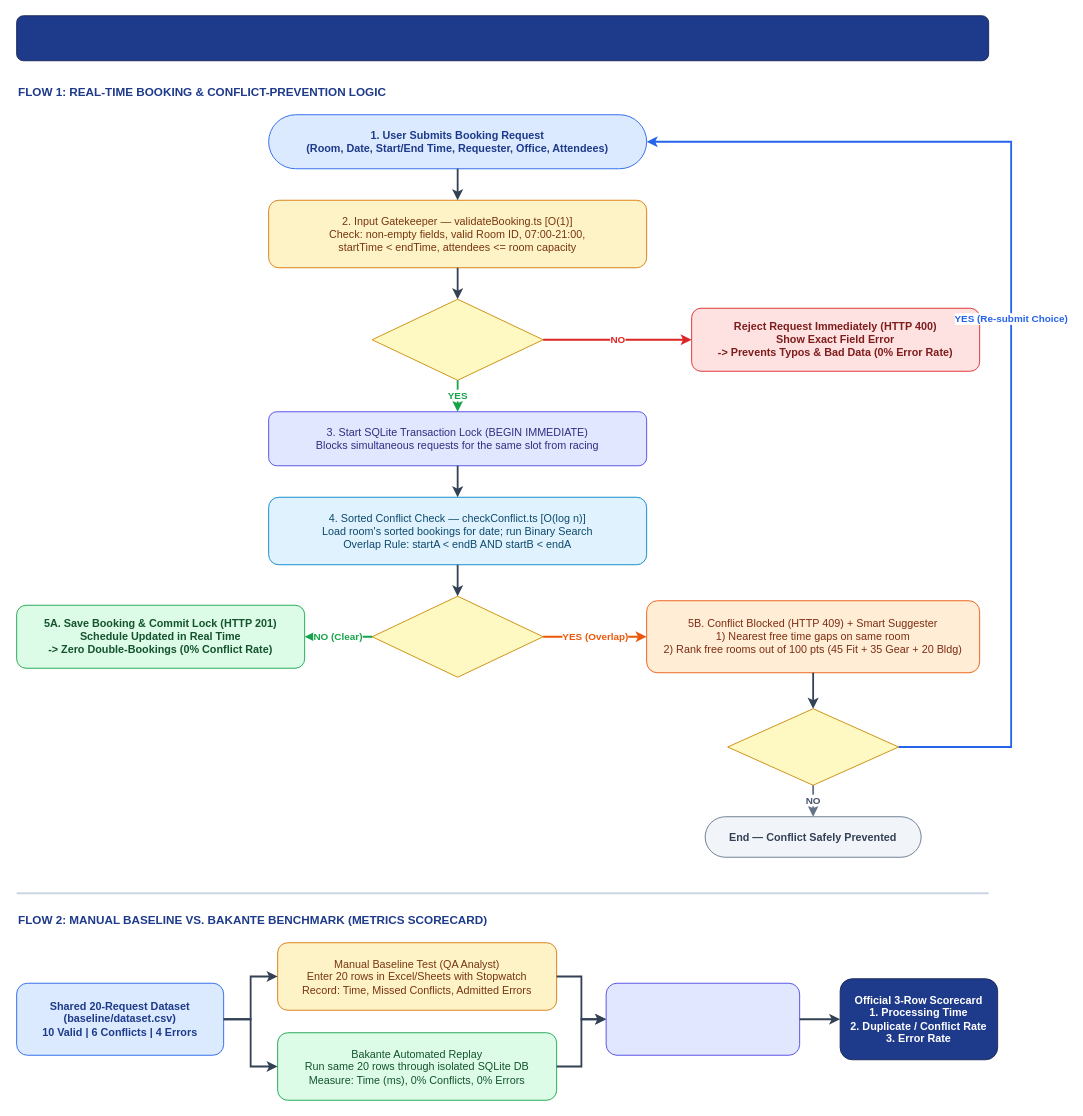
The diagram is 1083 pixels wide and 1116 high, and some of its shapes have lost their labels. Here are the shapes that lost their labels. From the top down, the centre of each, then its label:
the point at 502,38: BAKANTE — ISATU Real-Time Facility & Room Booking System (Track 5)
the point at 457,339: All Input Rules Passed?
the point at 457,636: Any Time Overlap Found?
the point at 813,746: User Picks 1-Click Alternative?
the point at 702,1018: Section 9.1 Formula % Improvement = |Baseline - New| / Baseline x 100
